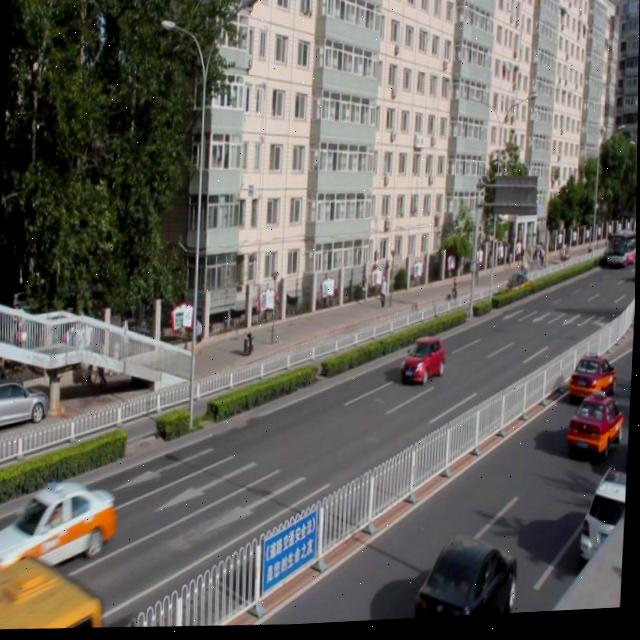car: (0, 477, 118, 576), (416, 534, 518, 623), (577, 468, 628, 563), (567, 396, 624, 465), (568, 357, 615, 408), (401, 336, 445, 389), (503, 276, 529, 304)
van: (0, 550, 105, 633), (542, 519, 626, 618)
